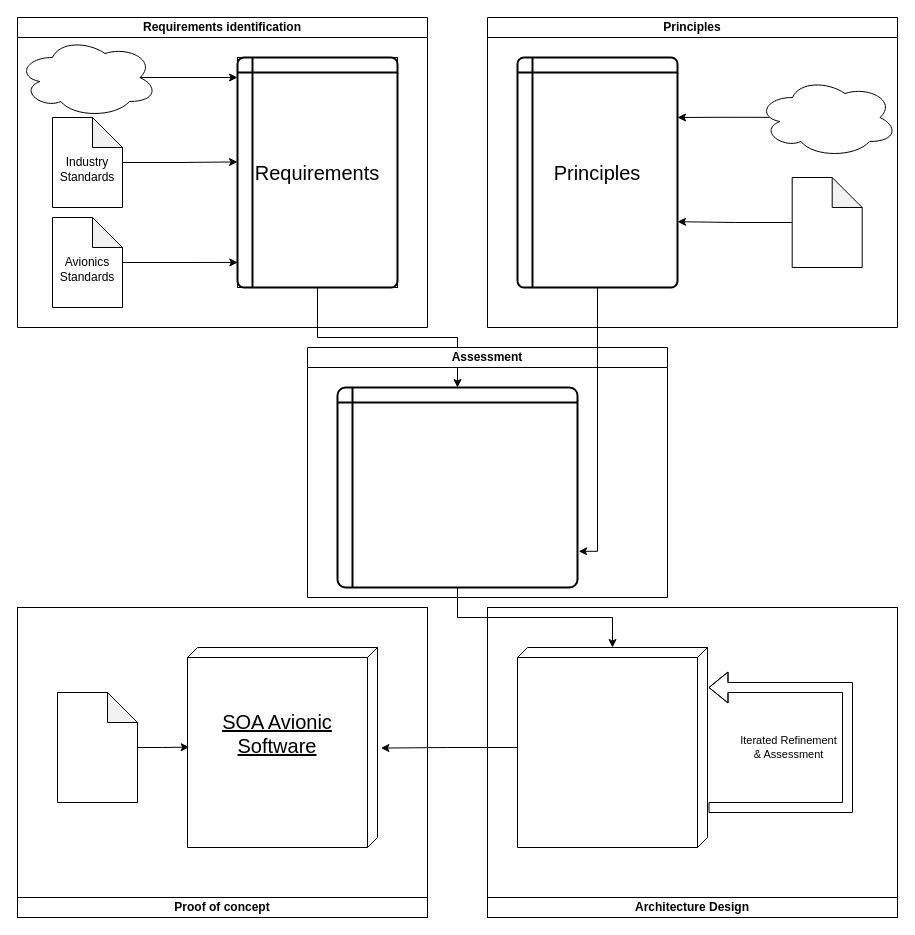
Some shapes in this 915 by 935 pixel diagram are drawn without their labels. Each missing label, with the centre of its shape:
Architecture Model: (x=612, y=747)
Assessed Requrements: (x=457, y=487)
Business Requirements Survey: (x=87, y=77)
Existing Monolithic Avionic Software: (x=97, y=747)
Existing Technologies: (x=827, y=117)
Literature: (x=826, y=222)
